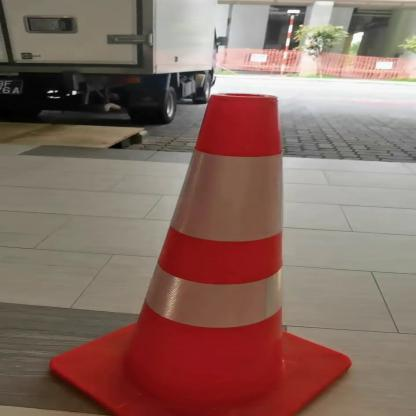cone: (46, 88, 354, 414)
